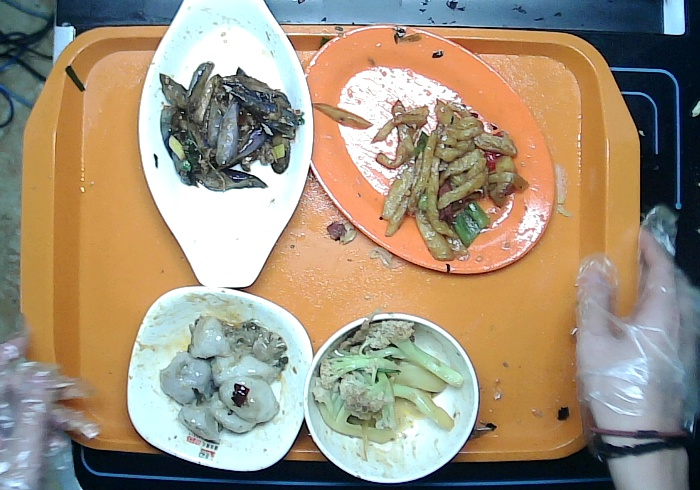NLDX-Bai_Se_Xiao_Fang_Die: (126, 285, 313, 471)
NLDX-Fan_Wan: (303, 312, 479, 490)
NLDX-Ju_Se_Pan: (303, 25, 556, 275)
NLDX-Yu_Pan: (139, 1, 315, 289)
